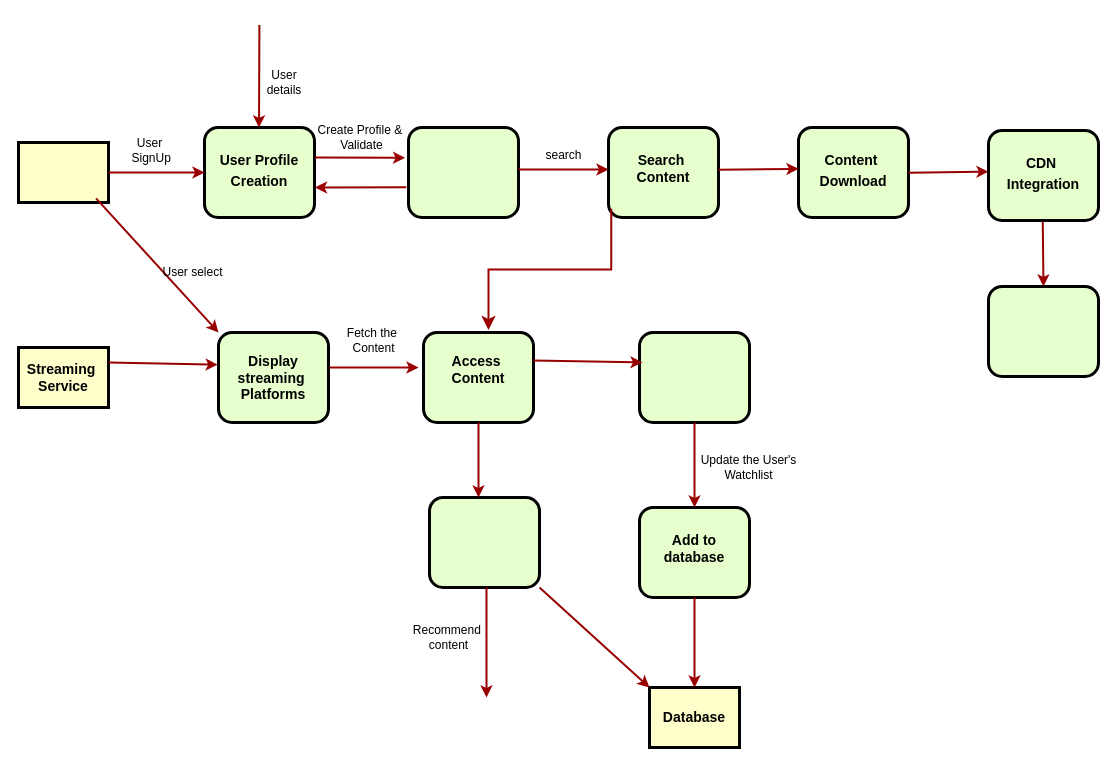
The diagram is 1117 pixels wide and 766 high, and some of its shapes have lost their labels. Here are the shapes that lost their labels. From the top down, the box of each, then its label:
(16, 140, 110, 204): User
(406, 126, 520, 218): Profile Registration
(986, 284, 1100, 378): CDN Servers
(638, 330, 750, 424): Add to Watch list
(428, 496, 540, 588): Content History
